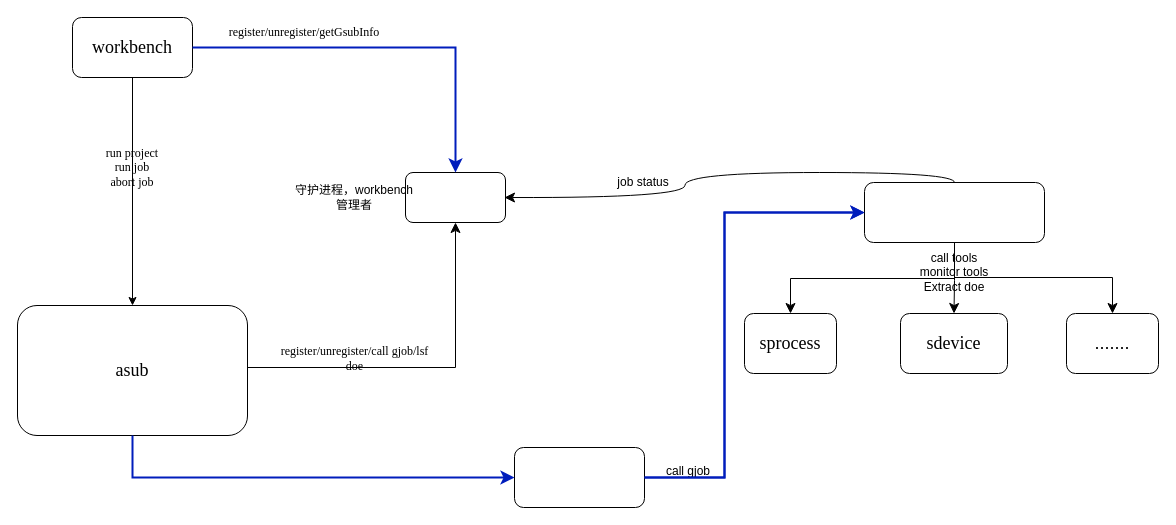
The diagram is 1176 pixels wide and 525 high, and some of its shapes have lost their labels. The shapes that lost their labels are listed below. From the top down, each one's centre as x and y in pixels, then its label:
[455,197]: awblm
[954,212]: ajob
[579,477]: lsf
